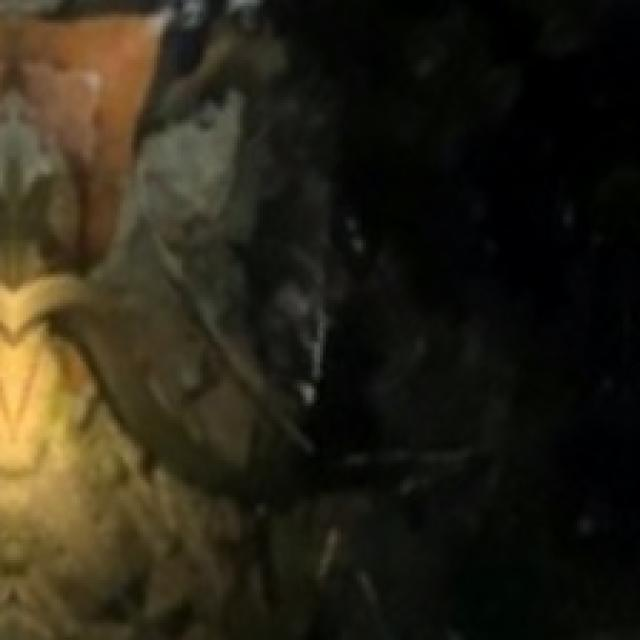king cobra: (0, 3, 334, 637)
